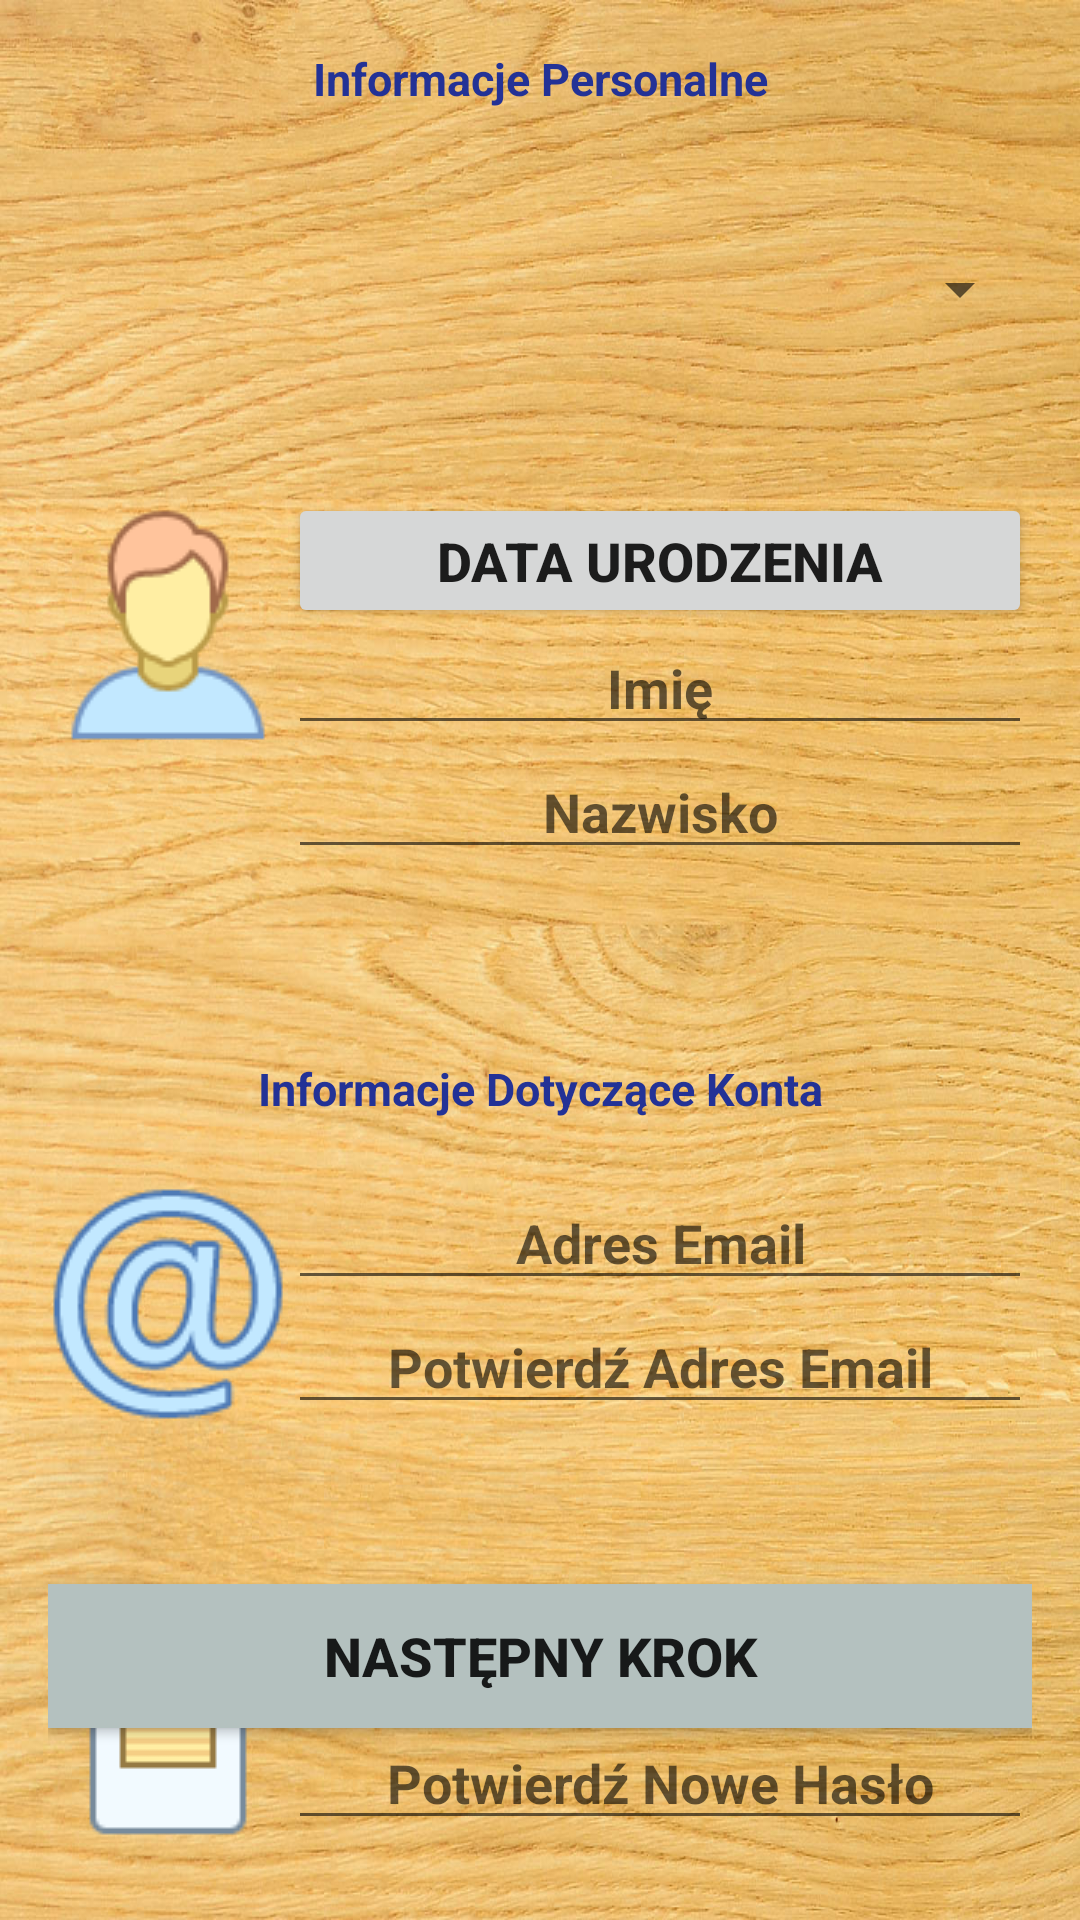

Icons on this 1080*1920 Android screen, each with the point to tap as (x=x, y=y):
user: (x=168, y=625)
